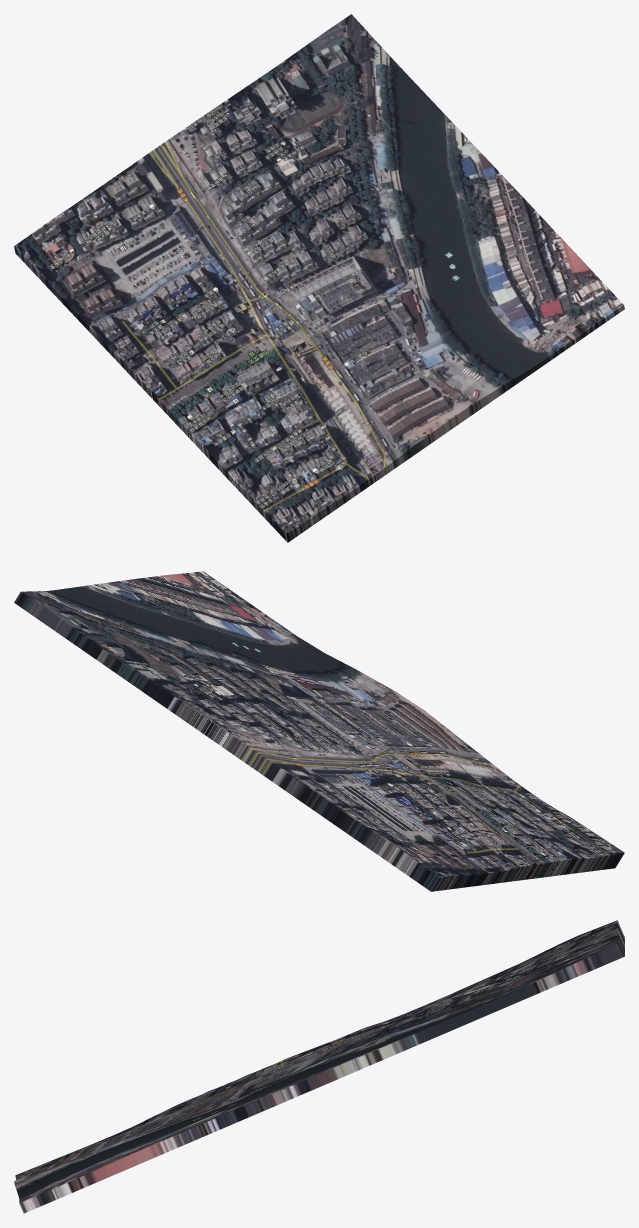
3 views of the same model, one above another, from view 1: azimuth 30°, elevation 25°; view 2: azimuth 150°, elevation 25°; view 3: azimuth 270°, elevation 25° (orthographic). The views are drawn at different scales.
Parts seen in each view (by area): view 1: 0_1_5; view 2: 0_1_5; view 3: 0_1_5.
Part boxes in pixels (bbox=[...]): 0_1_5: bbox=[14, 14, 624, 542]; 0_1_5: bbox=[14, 571, 624, 891]; 0_1_5: bbox=[14, 920, 624, 1213].
Bounding box in the file's own units: 598 × 440 × 551.
1 material, 1 textured.
